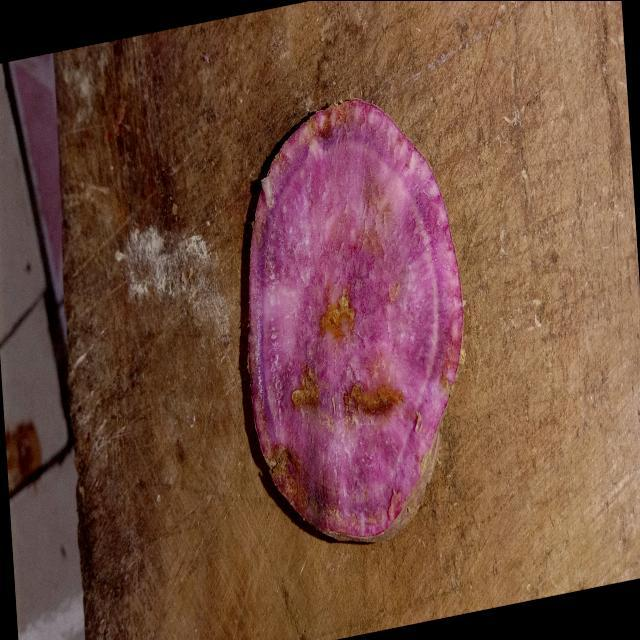Sick Sweet Potato_Tuber Rot: (249, 100, 462, 540)
